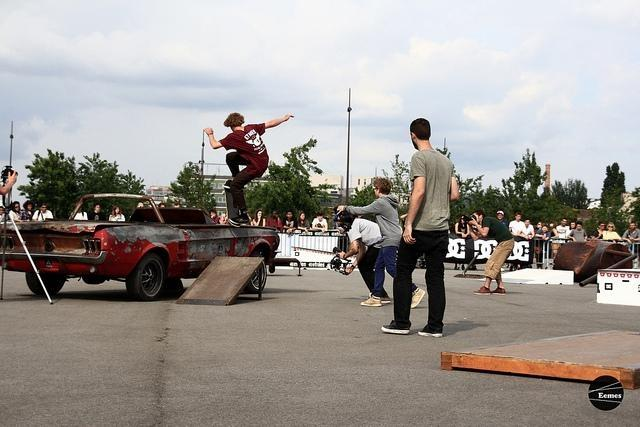car: (2, 193, 280, 302)
